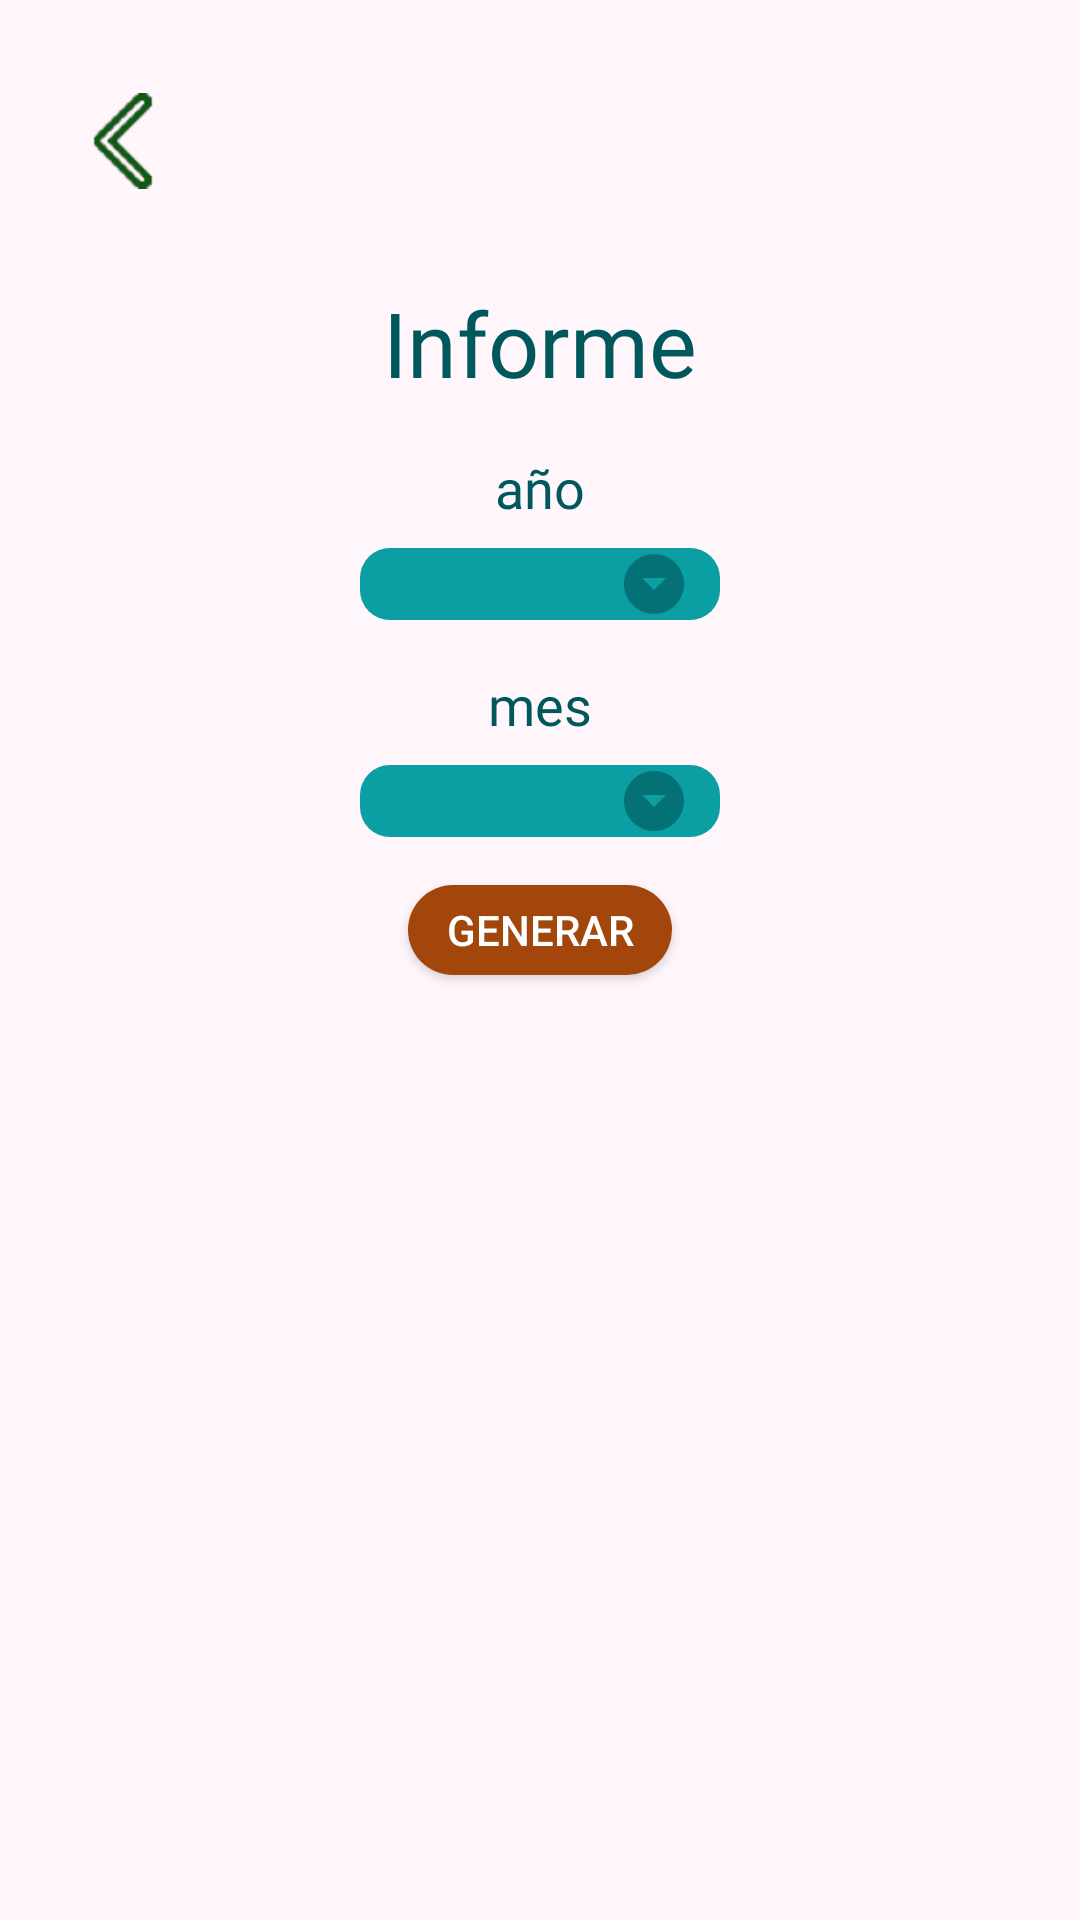

Point at icon controls on the screen. Image size 1080x1920, points as (x=x, y=y).
flecha: (x=123, y=141)
